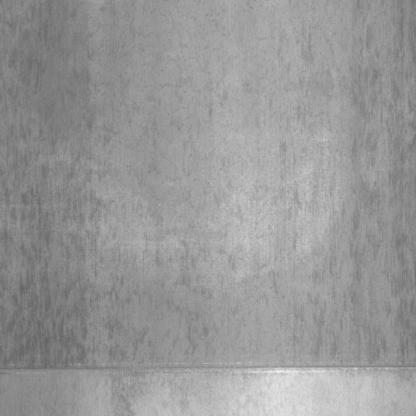welding_line: (0, 356, 414, 388)
